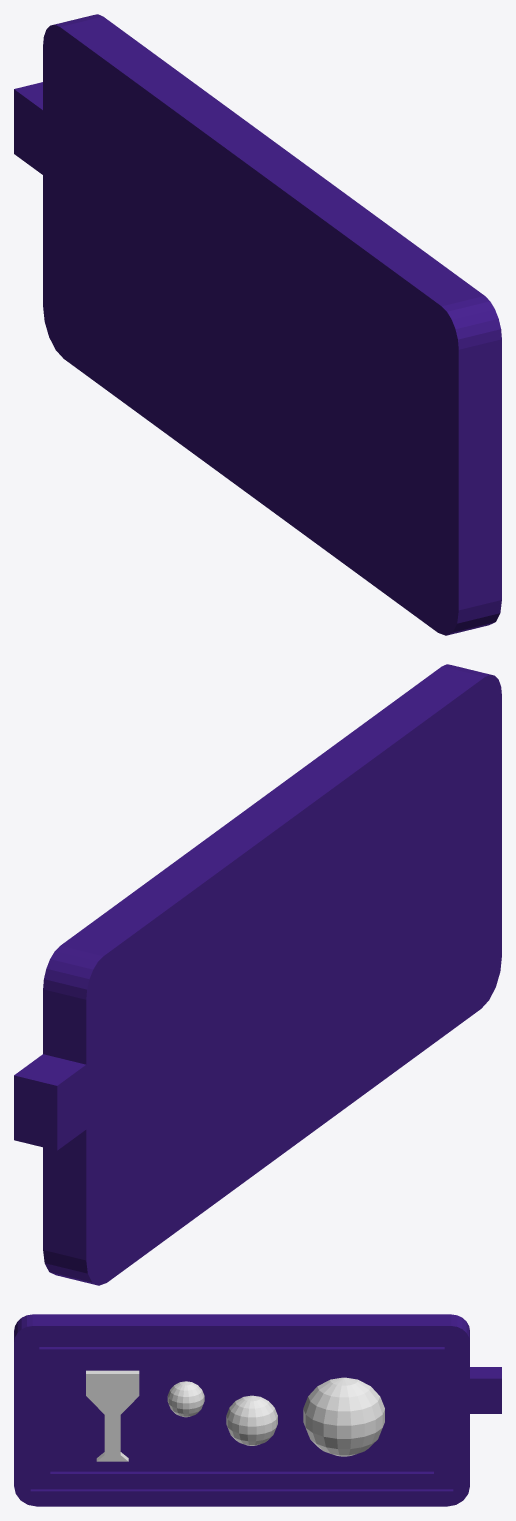
File: Señal.fbx
3 renders of one model, top to bottom at view 1: azimuth 30°, elevation 25°; view 2: azimuth 150°, elevation 25°; view 3: azimuth 270°, elevation 25°, orthographic. The views are drawn at different scales.
Visible parts, largest first — view 1: Cube; view 2: Cube; view 3: Cube, Sphere.002, Cube.001, Sphere.001, Sphere.
Part boxes in pixels (x1=…): Cube: x1=14, y1=14, x2=501, y2=635; Cube: x1=14, y1=664, x2=501, y2=1285; Cube: x1=14, y1=1314, x2=501, y2=1506; Sphere.002: x1=303, y1=1377, x2=384, y2=1456; Cube.001: x1=86, y1=1370, x2=139, y2=1461; Sphere.001: x1=226, y1=1395, x2=277, y2=1445; Sphere: x1=167, y1=1381, x2=204, y2=1417.
Size of the model in its own units: 37.18 by 117 by 287.
